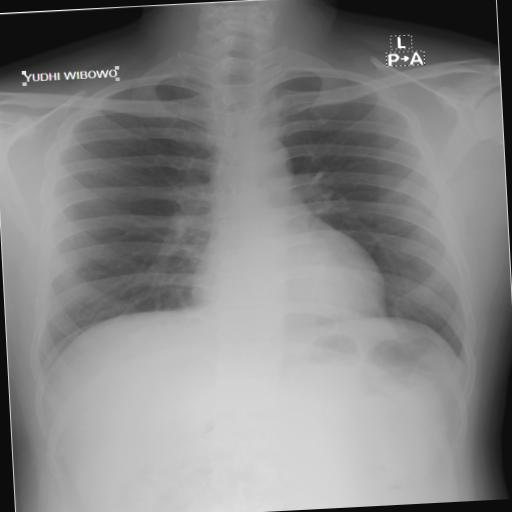normal: (10, 28, 476, 402)
